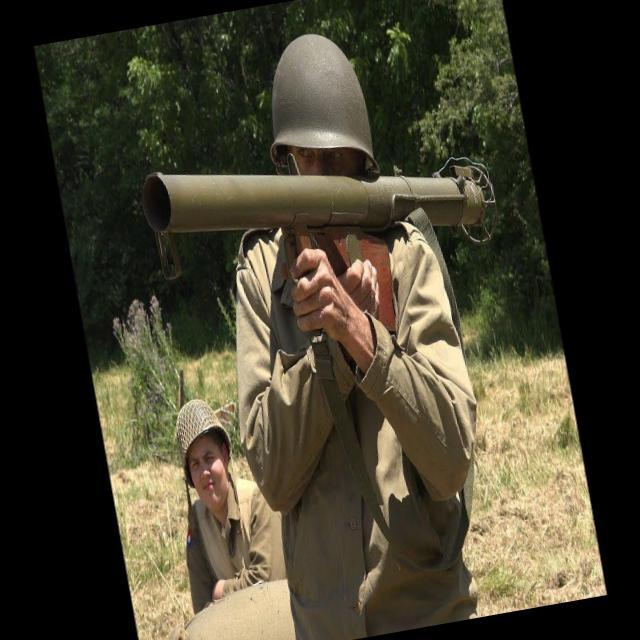rocket: (138, 112, 502, 296)
